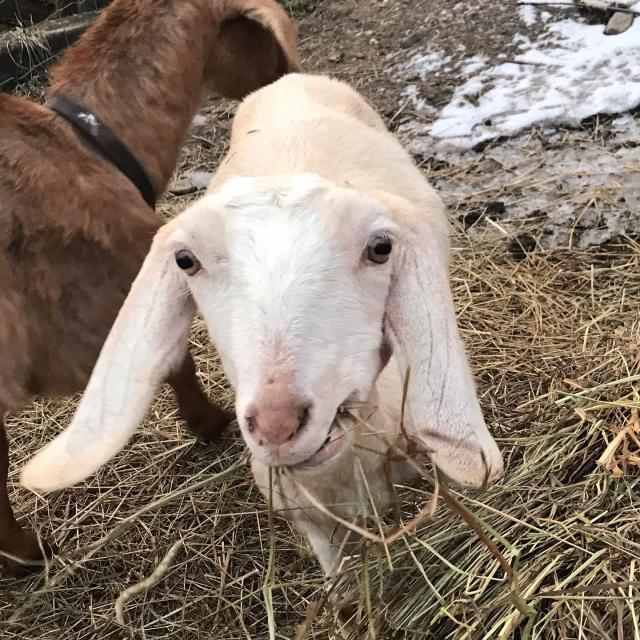goat: (104, 37, 572, 581)
